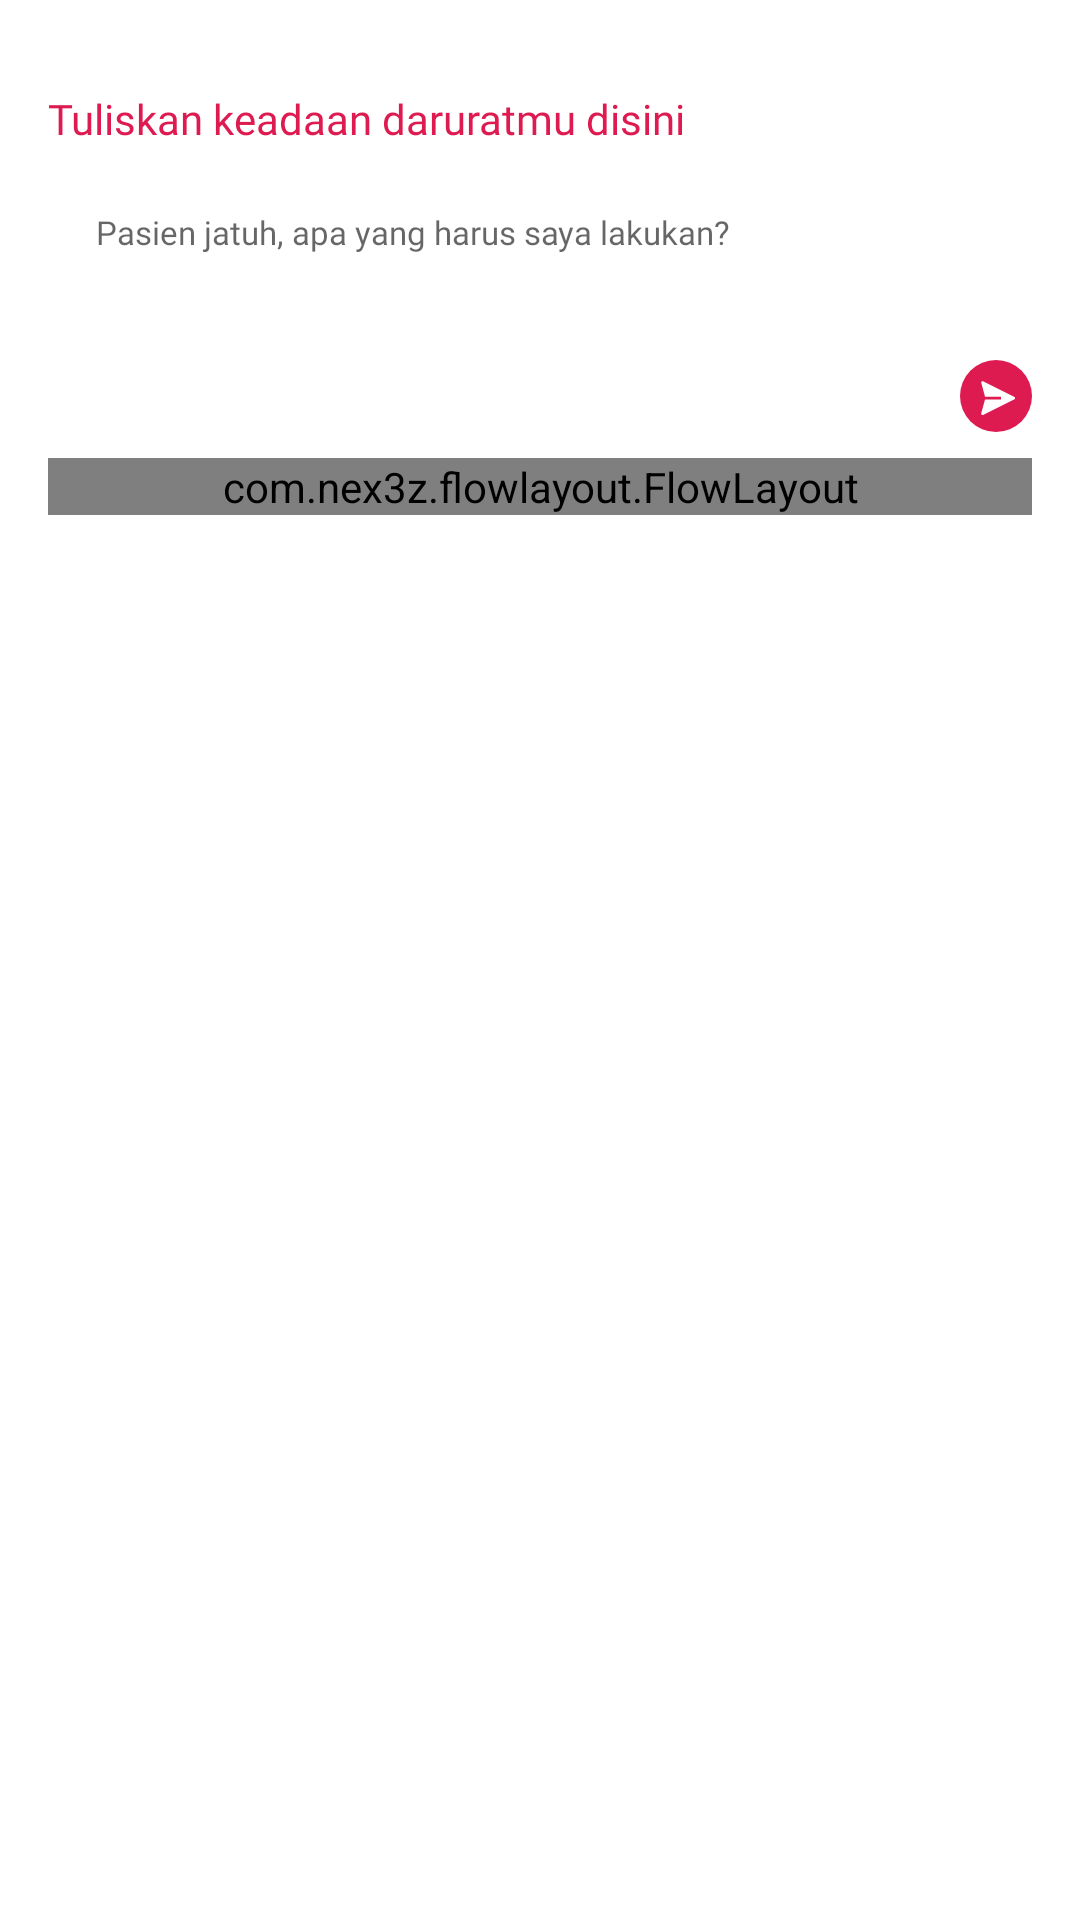

Icon bounding boxes for this 1080 × 1920 phone screenshot, format (x1,y1,x2,y2):
send message: (960,360,1032,432)
